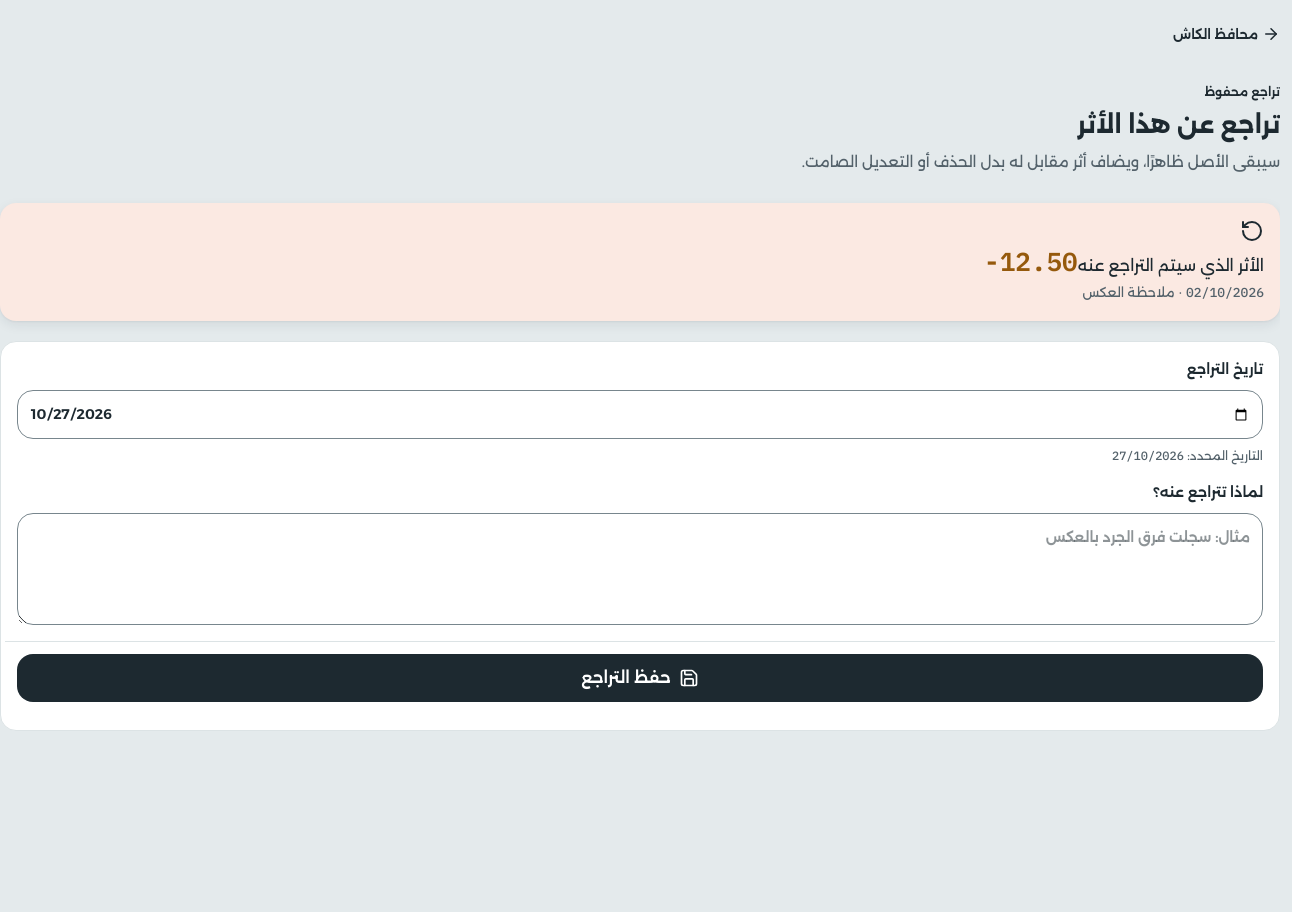
Test: CashReversalEditor — direct page-boundary behavior (R9-W3 + R9 continuation) › requires a reason before any reversal is written
Expected: the text box is shown, top-left (17, 513), bottom-right (1263, 625)
Click the button "حفظ التراجع". click: (640, 678)
box: top-left (17, 654), bottom-right (1263, 702)
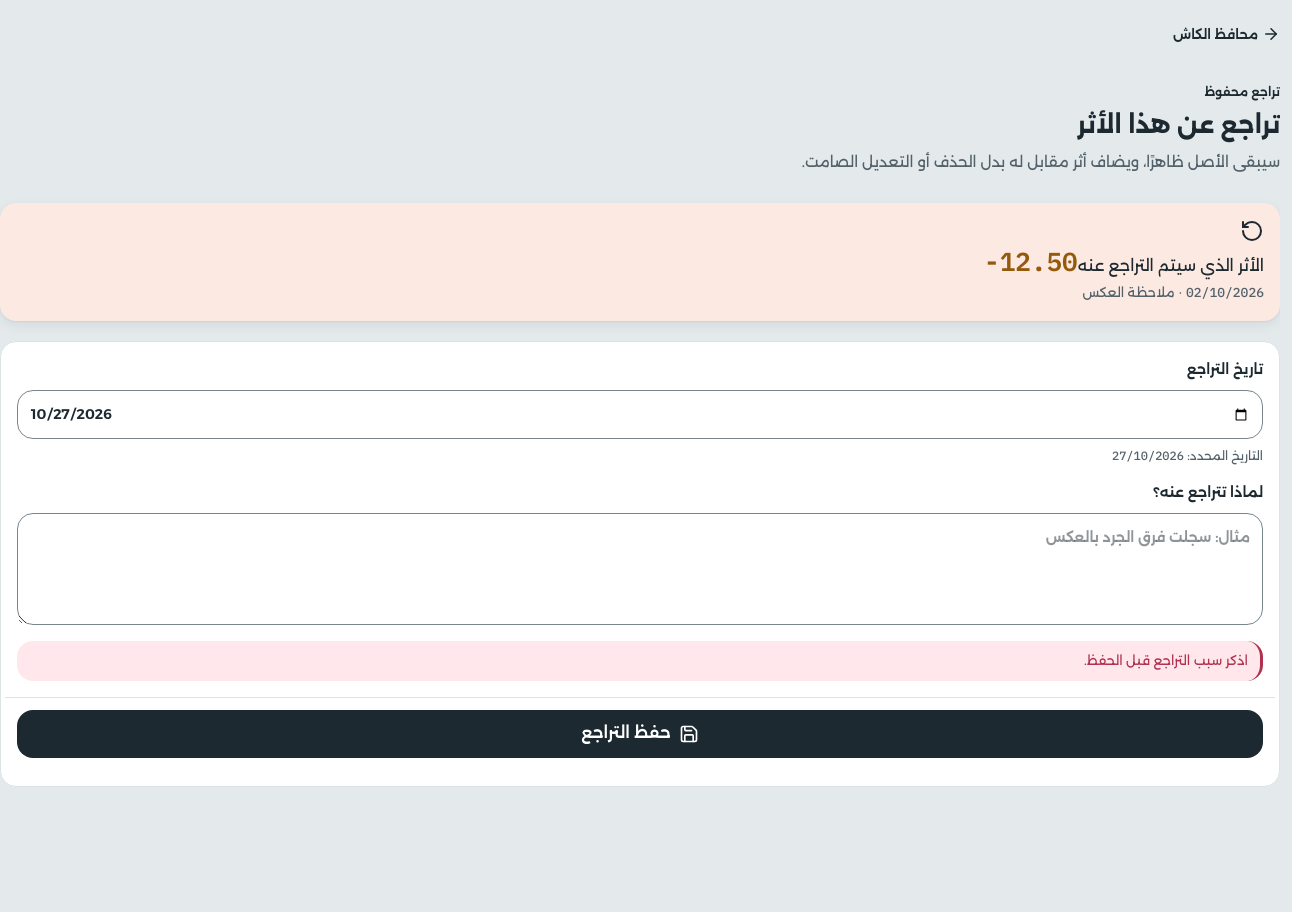
Expected: the text "اذكر سبب التراجع قبل الحفظ." is shown, top-left (17, 641), bottom-right (1263, 681)
